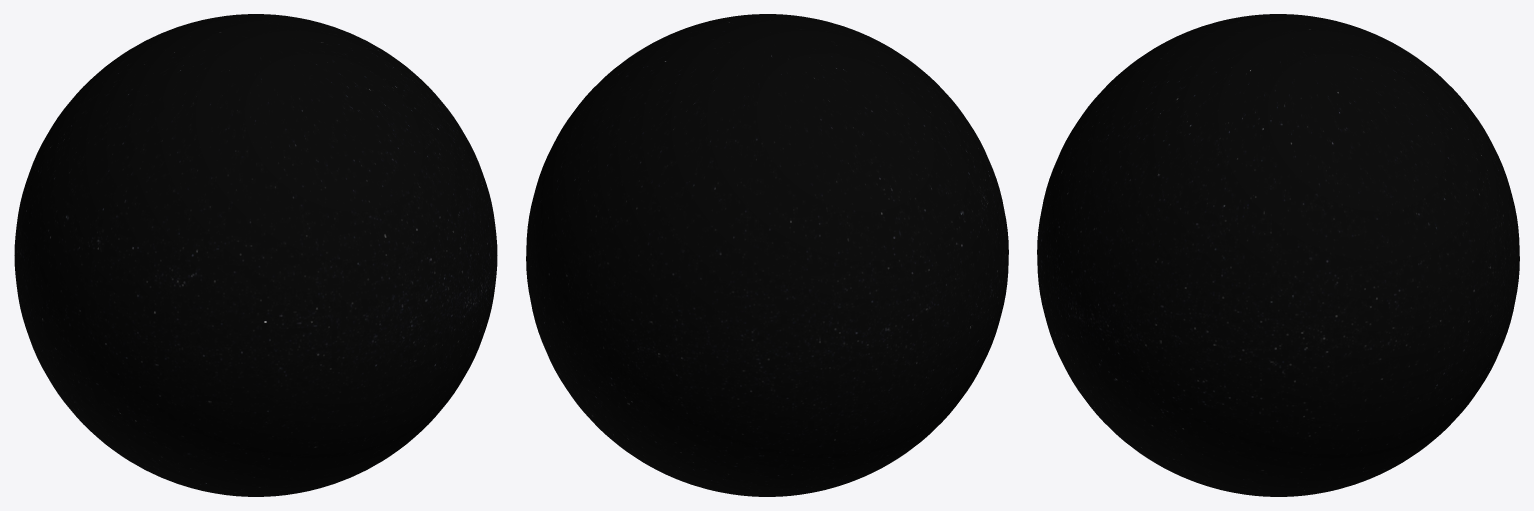
The model's file is Night Sky Starry.fbx.
3 renders of one model, left to right at view 1: azimuth 30°, elevation 25°; view 2: azimuth 150°, elevation 25°; view 3: azimuth 270°, elevation 25°, orthographic.
Visible parts, largest first — view 1: sphere; view 2: sphere; view 3: sphere.
Boxes of the visible parts, x1,y1,x2,y2 form: sphere: [14, 14, 497, 496]; sphere: [526, 14, 1008, 496]; sphere: [1037, 14, 1519, 496].
Size of the model in its own units: 933 by 934 by 933.
Materials: 1 (1 with a texture image).
